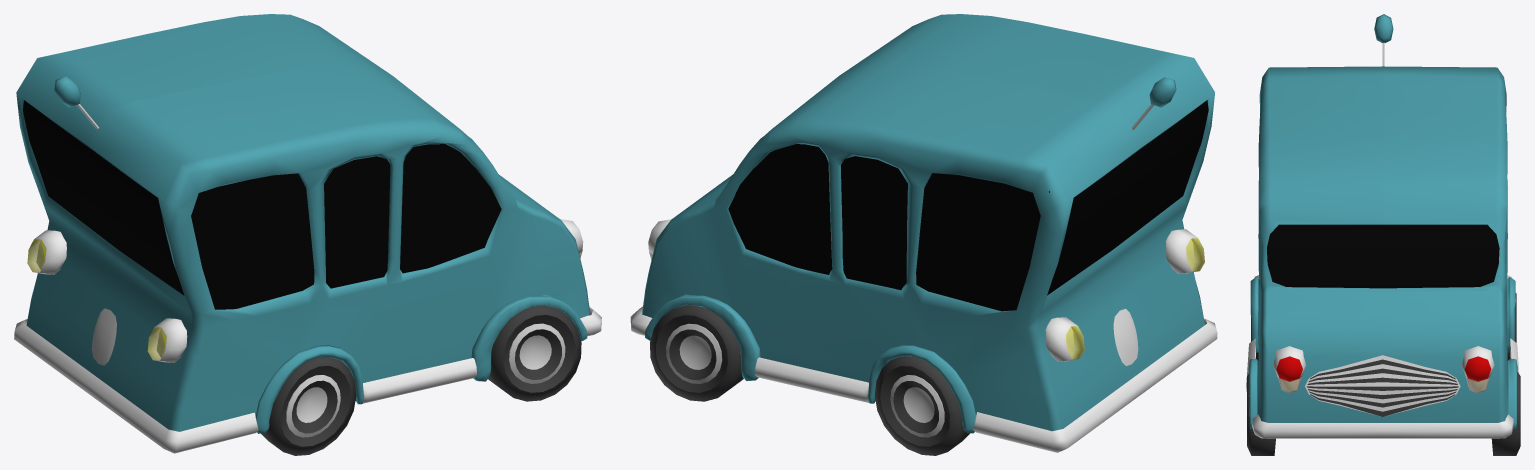
Rendered from Van1_Pushed.fbx.
3 renders of one model, left to right at view 1: azimuth 30°, elevation 25°; view 2: azimuth 150°, elevation 25°; view 3: azimuth 270°, elevation 25°, orthographic. The views are drawn at different scales.
Visible parts, largest first — view 1: Car1Body, polySurface62, polySurface66, polySurface60, car1trim, polySurface82, polySurface80, polySurface56, Car1Antenna; view 2: Car1Body, polySurface68, polySurface69, polySurface60, car1trim, polySurface80, polySurface82, polySurface56, Car1Antenna; view 3: Car1Body, polySurface65, polySurface71, car1trim1, polySurface85, polySurface69, polySurface66, Car1Antenna, car1trim.
Boxes of the visible parts, left/top/right/bottom form: Car1Body: left=16, top=14, right=590, bottom=433; polySurface62: left=191, top=144, right=501, bottom=309; polySurface66: left=261, top=305, right=581, bottom=455; polySurface60: left=23, top=100, right=184, bottom=295; car1trim: left=14, top=319, right=476, bottom=453; polySurface82: left=27, top=230, right=66, bottom=274; polySurface80: left=147, top=318, right=187, bottom=362; polySurface56: left=92, top=308, right=116, bottom=365; Car1Antenna: left=54, top=76, right=98, bottom=129; Car1Body: left=642, top=14, right=1214, bottom=433; polySurface68: left=728, top=144, right=1049, bottom=311; polySurface69: left=650, top=305, right=969, bottom=455; polySurface60: left=1047, top=100, right=1208, bottom=295; car1trim: left=755, top=318, right=1217, bottom=452; polySurface80: left=1166, top=229, right=1204, bottom=273; polySurface82: left=1045, top=317, right=1084, bottom=361; polySurface56: left=1113, top=308, right=1138, bottom=365; Car1Antenna: left=1132, top=77, right=1176, bottom=129; Car1Body: left=1248, top=66, right=1517, bottom=429; polySurface65: left=1267, top=224, right=1499, bottom=288; polySurface71: left=1305, top=355, right=1460, bottom=416; car1trim1: left=1252, top=414, right=1513, bottom=438; polySurface85: left=1273, top=346, right=1494, bottom=393; polySurface69: left=1491, top=293, right=1520, bottom=455; polySurface66: left=1247, top=305, right=1275, bottom=455; Car1Antenna: left=1374, top=14, right=1393, bottom=66; car1trim: left=1246, top=275, right=1519, bottom=391.
Size of the model in its own units: 7.05 by 5.12 by 4.46.
